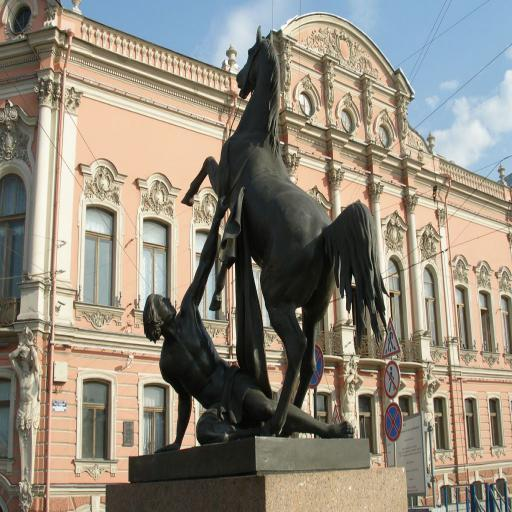horse: (182, 24, 394, 438)
